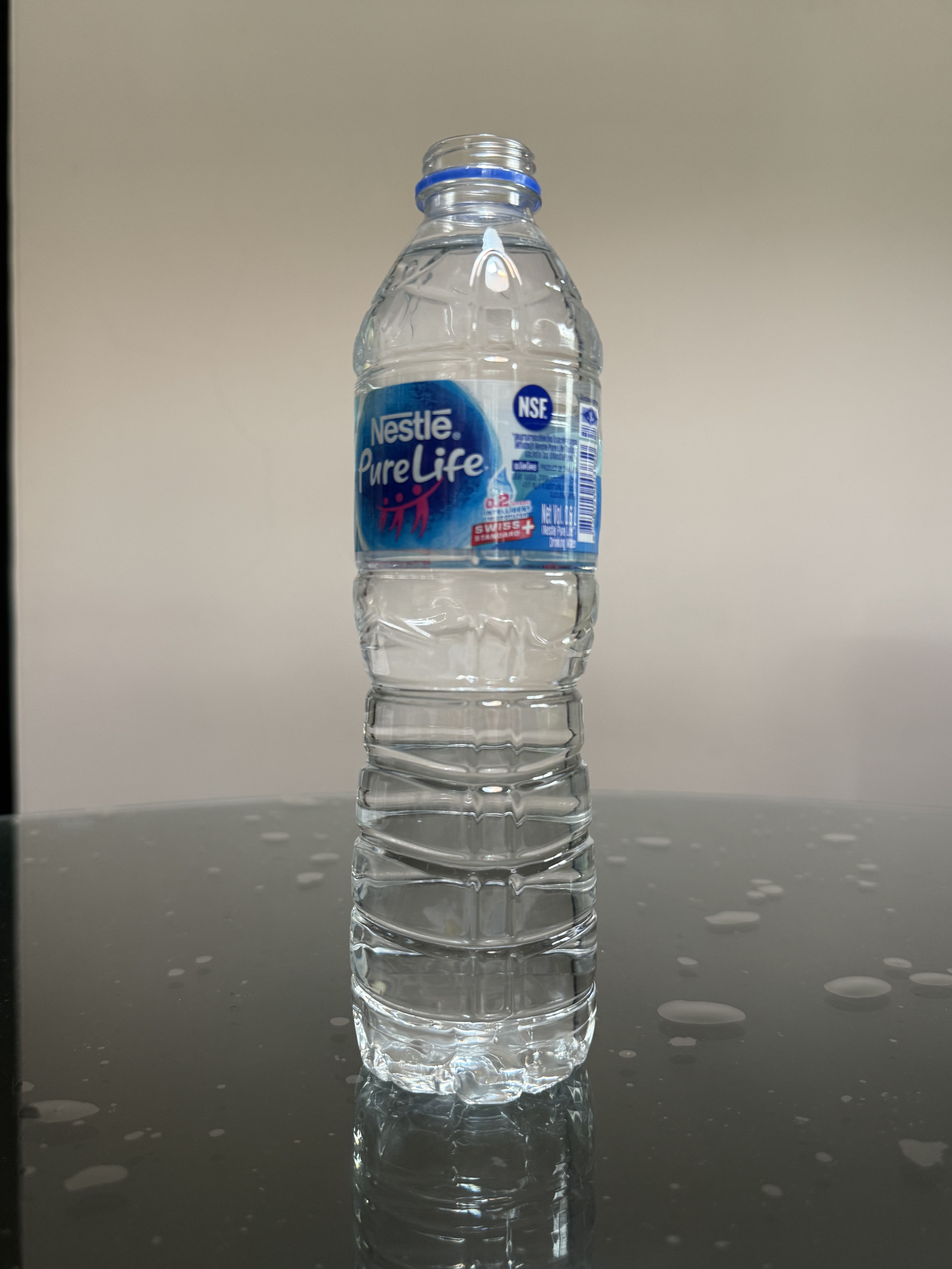no_cap: (410, 129, 545, 221)
